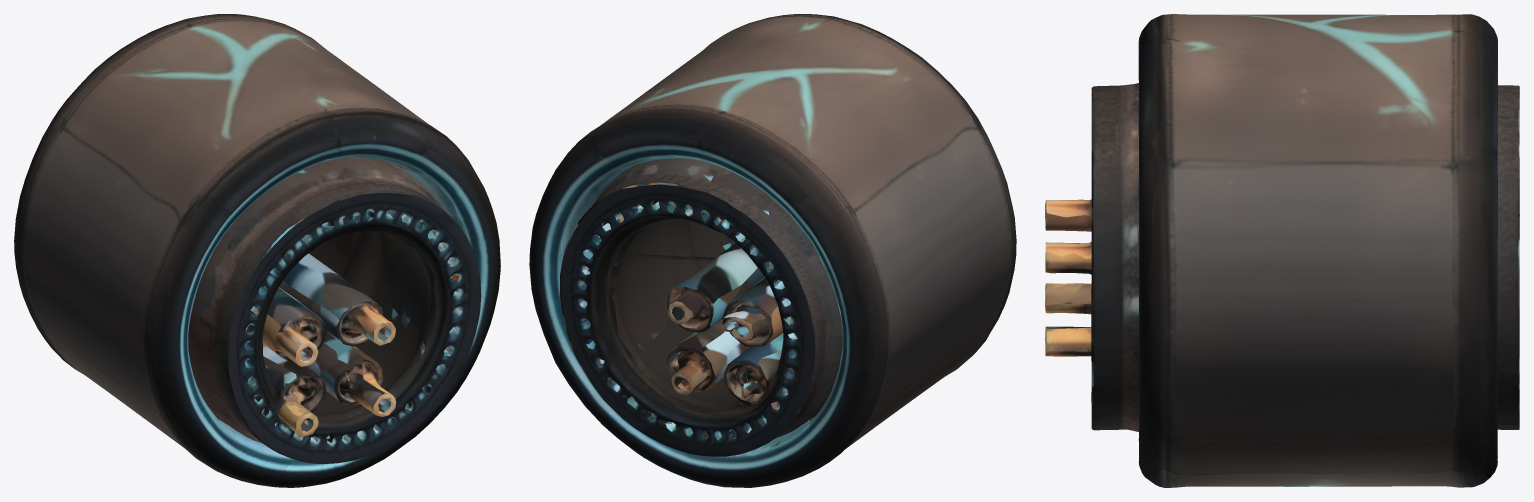
3 views of the same model, side by side, from view 1: azimuth 30°, elevation 25°; view 2: azimuth 150°, elevation 25°; view 3: azimuth 270°, elevation 25° (orthographic). The views are drawn at different scales.
Parts seen in each view (by area): view 1: tmpf5ollw6q.ply; view 2: tmpf5ollw6q.ply; view 3: tmpf5ollw6q.ply.
Part boxes in pixels (x1,y1,x2,y2): tmpf5ollw6q.ply: (14, 14, 500, 487); tmpf5ollw6q.ply: (529, 14, 1016, 487); tmpf5ollw6q.ply: (1045, 14, 1519, 487).
Size of the model in its own units: 1.96 by 1.96 by 1.96.
1 material, 1 textured.
